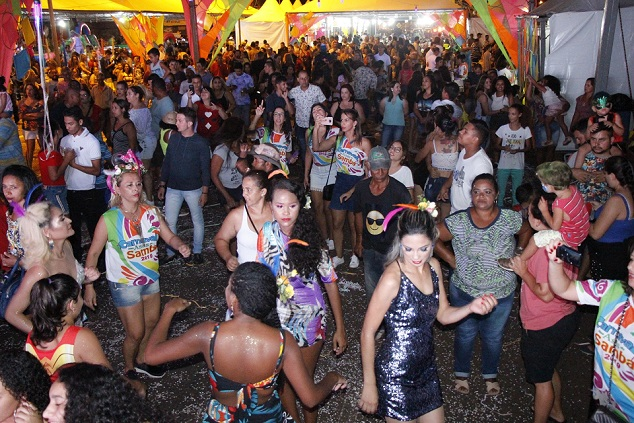Humano: (372, 208, 465, 421), (205, 264, 314, 423), (102, 155, 172, 381), (269, 181, 342, 369), (522, 199, 575, 423), (17, 276, 114, 369), (591, 233, 634, 423), (171, 111, 211, 266), (49, 359, 145, 423), (332, 109, 368, 267), (21, 202, 90, 281), (533, 159, 591, 249), (63, 110, 105, 213), (463, 175, 518, 253), (305, 104, 334, 242), (232, 174, 275, 264), (1, 164, 33, 270), (426, 113, 460, 212), (598, 156, 634, 240), (1, 346, 41, 421), (35, 119, 72, 200), (500, 104, 528, 199), (18, 82, 47, 163), (543, 73, 572, 149), (457, 119, 495, 176), (126, 85, 154, 159), (365, 144, 391, 212), (108, 100, 139, 153), (256, 100, 294, 142), (241, 142, 283, 175), (230, 62, 252, 122), (383, 79, 406, 136), (414, 73, 437, 128), (587, 123, 619, 161), (435, 79, 465, 118), (196, 87, 223, 130), (389, 134, 410, 188), (574, 75, 596, 117), (491, 76, 517, 110), (474, 72, 493, 116), (335, 79, 363, 108), (591, 93, 617, 124), (293, 69, 316, 103), (185, 75, 203, 112), (270, 77, 291, 106), (79, 88, 99, 115), (59, 90, 77, 115), (573, 119, 589, 145), (457, 52, 471, 80), (111, 80, 126, 104), (261, 62, 278, 77)
